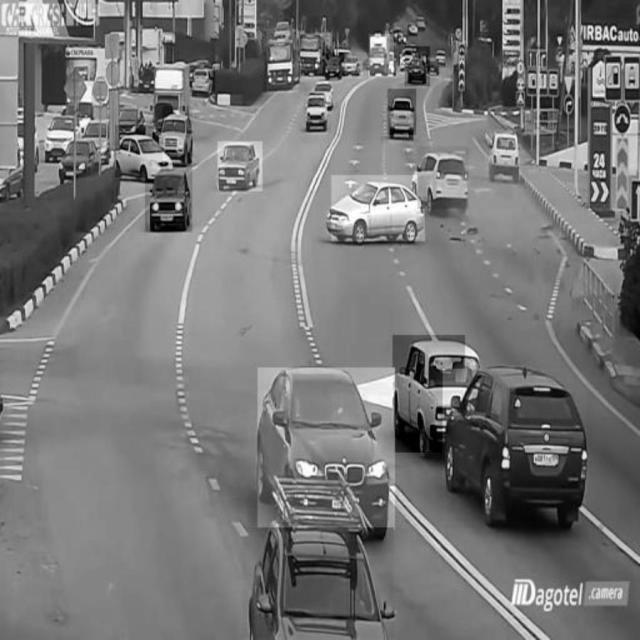vehicle: (442, 369, 586, 525), (258, 368, 395, 530), (243, 528, 394, 638), (393, 335, 465, 453), (332, 176, 425, 242), (418, 147, 469, 209), (145, 165, 192, 232), (114, 126, 172, 178), (218, 142, 264, 192), (55, 133, 100, 184), (267, 29, 299, 93), (486, 129, 523, 183), (44, 109, 78, 161), (163, 107, 193, 163), (388, 89, 416, 135), (304, 88, 331, 133), (369, 34, 394, 76), (405, 47, 430, 87), (190, 67, 215, 92), (323, 52, 345, 77)
